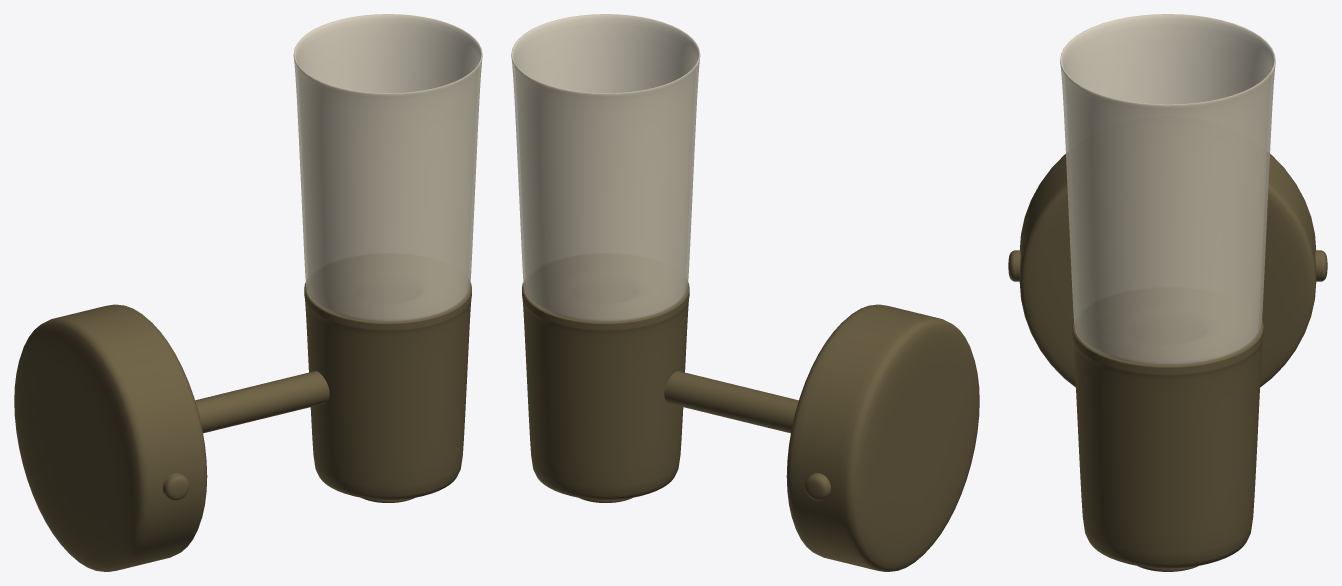
File: frwbscllwlght.fbx
3 renders of one model, left to right at view 1: azimuth 30°, elevation 25°; view 2: azimuth 150°, elevation 25°; view 3: azimuth 270°, elevation 25°, orthographic. The views are drawn at different scales.
Parts seen in each view (by area): view 1: Cylinder.007, Cylinder.009, Cylinder.008, Cylinder.010, Cylinder.005; view 2: Cylinder.007, Cylinder.009, Cylinder.008, Cylinder.010, Cylinder.005; view 3: Cylinder.007, Cylinder.008, Cylinder.009, Cylinder.005.
Part boxes in pixels (x1,y1,x2,y2): Cylinder.007: (293,14,482,321); Cylinder.009: (14,304,207,571); Cylinder.008: (304,281,471,502); Cylinder.010: (195,371,329,433); Cylinder.005: (163,473,189,500); Cylinder.007: (511,14,700,321); Cylinder.009: (786,304,979,571); Cylinder.008: (522,281,689,502); Cylinder.010: (664,371,798,433); Cylinder.005: (804,473,830,500); Cylinder.007: (1060,14,1275,365); Cylinder.008: (1072,318,1263,571); Cylinder.009: (1019,154,1316,387); Cylinder.005: (1008,250,1327,281).
Size of the model in its own units: 567 by 595 by 347.
